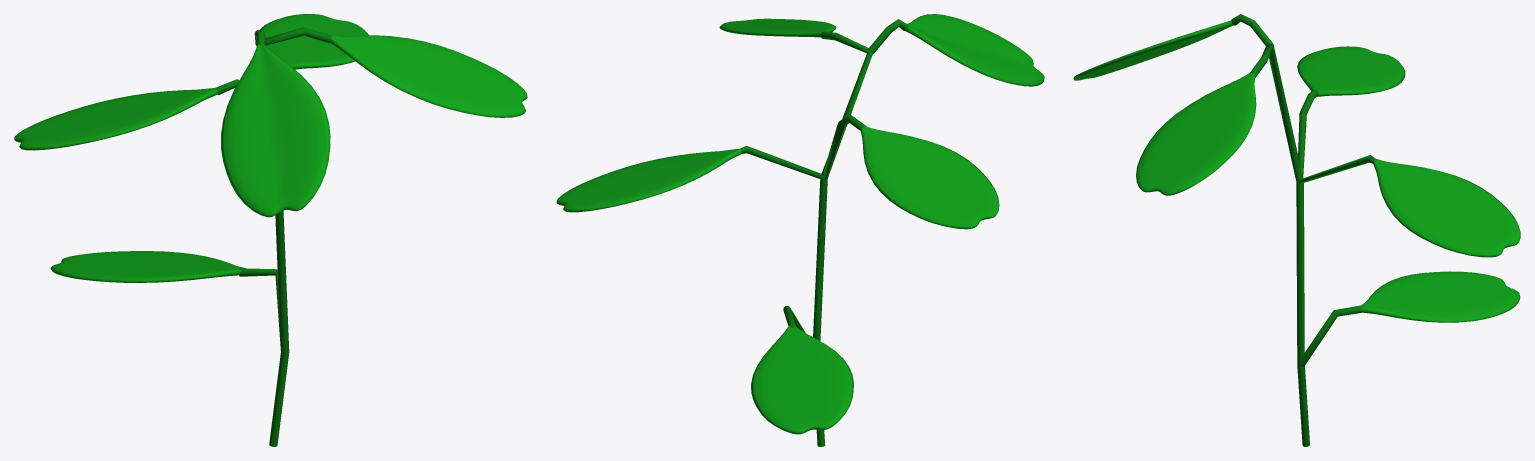
Rendered from ciliegio_primo_stato.fbx.
The picture shows the model from 3 angles, left to right: view 1: azimuth 30°, elevation 25°; view 2: azimuth 150°, elevation 25°; view 3: azimuth 270°, elevation 25°; orthographic projection. The views are drawn at different scales.
Visible parts, largest first — view 1: Plane.033, Vert.013; view 2: Plane.033, Vert.013; view 3: Plane.033, Vert.013.
Boxes of the visible parts, left/top/right/bottom form: Plane.033: left=14, top=14, right=527, bottom=282; Vert.013: left=215, top=27, right=331, bottom=446; Plane.033: left=556, top=14, right=1044, bottom=434; Vert.013: left=739, top=19, right=908, bottom=446; Plane.033: left=1073, top=20, right=1520, bottom=322; Vert.013: left=1231, top=14, right=1375, bottom=446.
Bounding box in the file's own units: 322 × 340 × 336.
